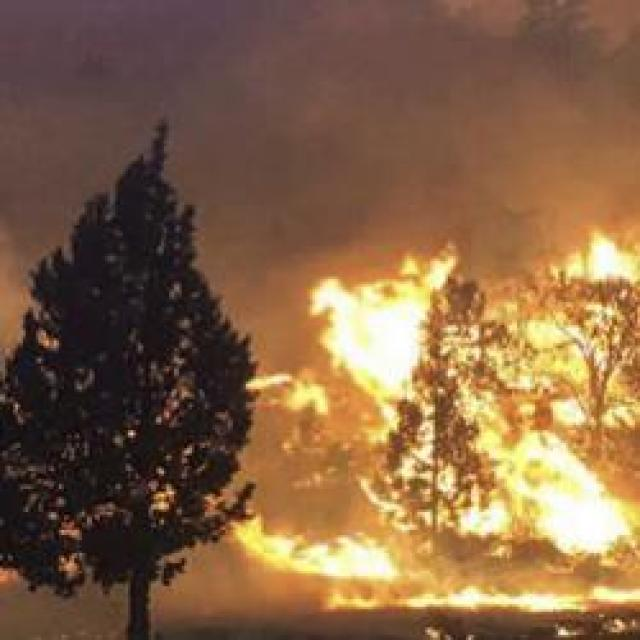Fire: (414, 393, 626, 562), (298, 258, 468, 403), (533, 221, 640, 443), (248, 504, 406, 590), (303, 585, 640, 625)
Smoke: (36, 0, 639, 222)
